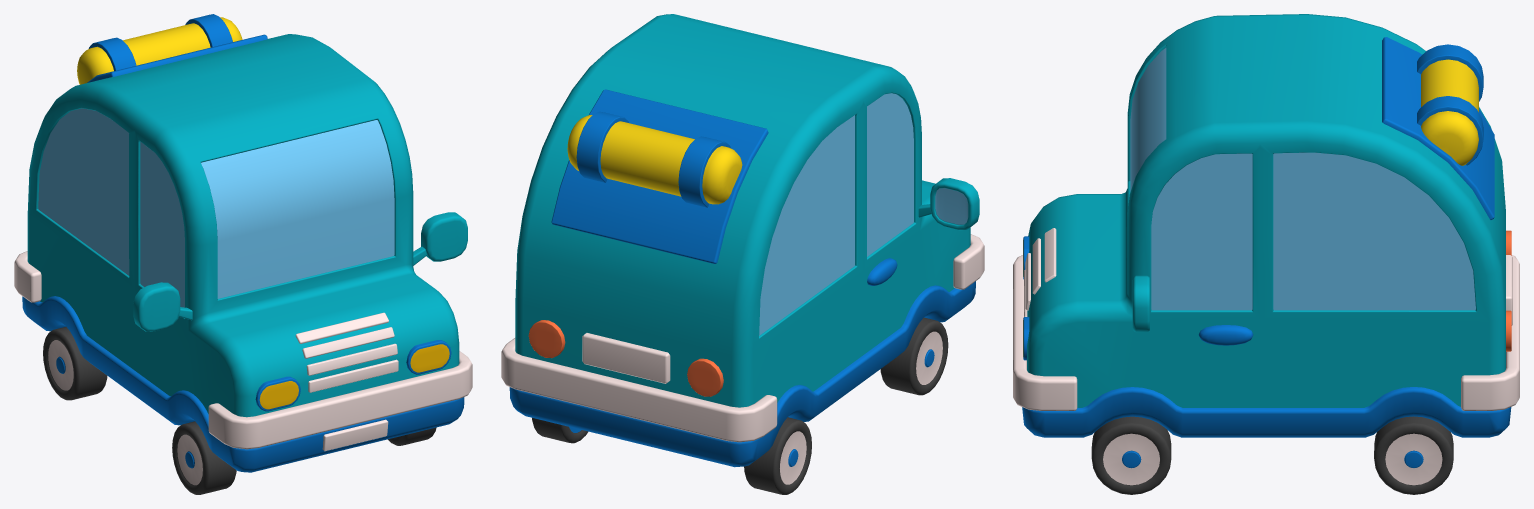
Rendered from Town_9_Car_2.glb.
The picture shows the model from 3 angles, left to right: view 1: azimuth 30°, elevation 25°; view 2: azimuth 150°, elevation 25°; view 3: azimuth 270°, elevation 25°; orthographic projection. The views are drawn at different scales.
Visible parts, largest first — view 1: Town_9_Car_2; view 2: Town_9_Car_2; view 3: Town_9_Car_2.
Boxes of the visible parts, bbox=[...] form: Town_9_Car_2: bbox=[14, 14, 472, 494]; Town_9_Car_2: bbox=[501, 14, 984, 494]; Town_9_Car_2: bbox=[1013, 14, 1519, 494].
Bounding box in the file's own units: 2.96 × 2.88 × 3.61.
1 material, 1 textured.
